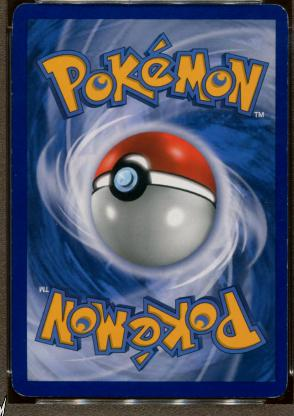Card: (11, 1, 287, 401)
Corner Wear: (10, 368, 39, 398), (11, 2, 35, 38), (264, 371, 286, 399), (268, 2, 286, 32), (284, 302, 287, 358), (284, 236, 287, 289), (285, 43, 287, 102), (284, 112, 286, 166)
Edge Wear: (189, 396, 260, 398), (25, 395, 59, 397), (11, 78, 13, 112), (11, 214, 13, 246), (11, 147, 13, 154), (10, 162, 11, 168)
